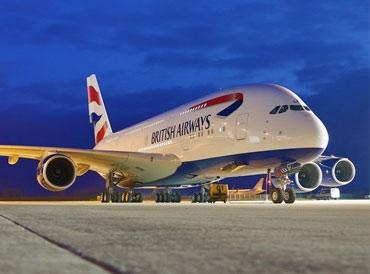airplane: (1, 73, 366, 206)
